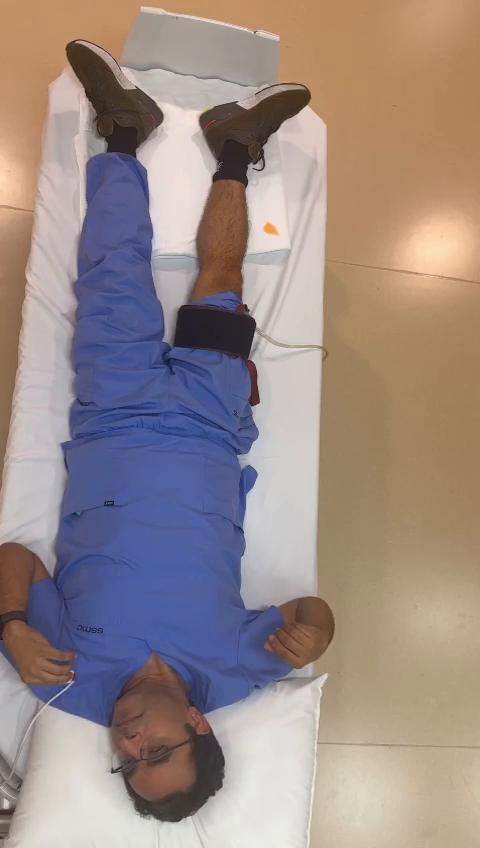patient: (0, 41, 335, 822)
tourniquet: (175, 305, 256, 358)
